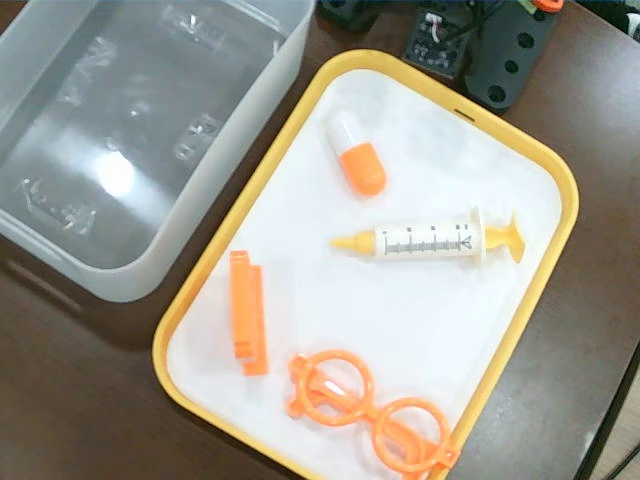pill: (328, 111, 389, 198)
syringe: (325, 210, 530, 267)
